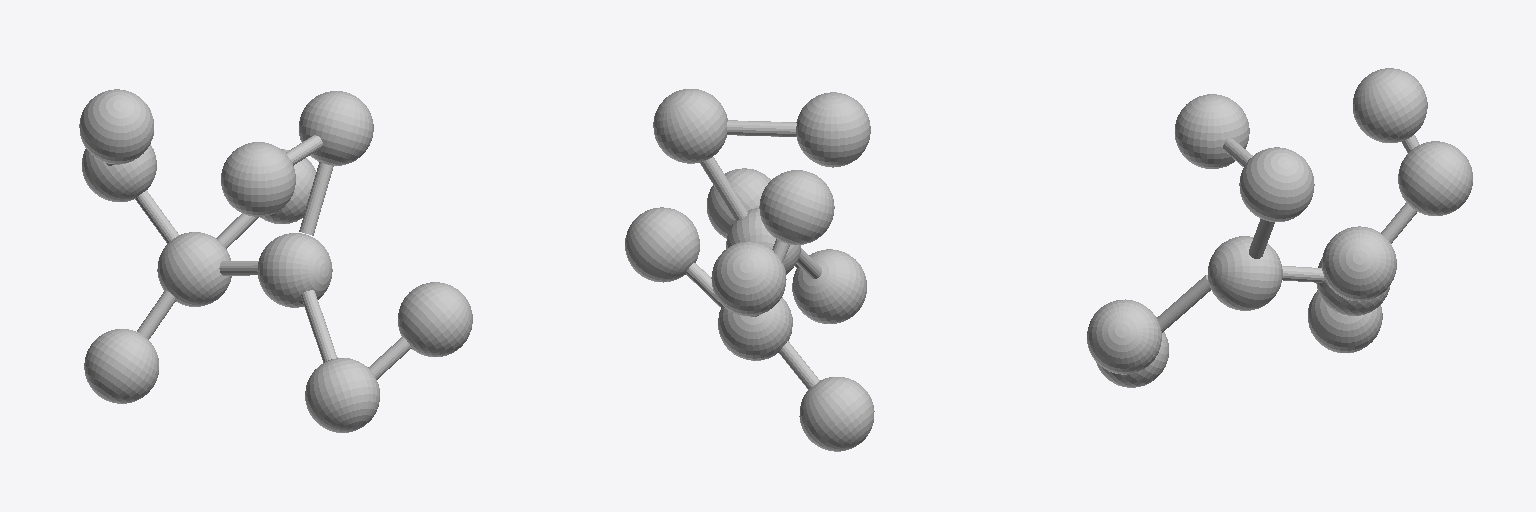
File: fenzi02_obj.obj
3 renders of one model, left to right at view 1: azimuth 30°, elevation 25°; view 2: azimuth 150°, elevation 25°; view 3: azimuth 270°, elevation 25°, orthographic.
Visible parts, largest first — view 1: Sphere94, Sphere96, Sphere97, Sphere95, Sphere88, Sphere91, Sphere90, Sphere93, Sphere89, Sphere92, Cylinder218, Cylinder213 (+6 smaller); view 2: Sphere95, Sphere94, Sphere93, Sphere97, Sphere92, Sphere89, Sphere96, Sphere90, Sphere88, Sphere91, Cylinder214, Cylinder218 (+2 smaller); view 3: Sphere89, Sphere95, Sphere88, Sphere93, Sphere92, Sphere91, Sphere94, Sphere97, Sphere96, Sphere90, Cylinder213, Cylinder212 (+2 smaller).
Boxes of the visible parts, box(x1,y1,x2,y2) form: Sphere94: box(221, 142, 295, 216); Sphere96: box(305, 358, 379, 432); Sphere97: box(84, 329, 158, 403); Sphere95: box(79, 89, 153, 164); Sphere88: box(398, 282, 472, 356); Sphere91: box(257, 233, 332, 307); Sphere90: box(157, 232, 231, 306); Sphere93: box(299, 91, 373, 165); Sphere89: box(82, 144, 156, 201); Sphere92: box(260, 149, 315, 223); Cylinder218: box(299, 162, 333, 235); Cylinder213: box(301, 290, 337, 362); Sphere95: box(759, 170, 834, 244); Sphere94: box(796, 92, 870, 167); Sphere93: box(653, 89, 727, 163); Sphere97: box(799, 377, 874, 451); Sphere92: box(625, 207, 699, 282); Sphere89: box(711, 241, 786, 315); Sphere96: box(792, 249, 866, 323); Sphere90: box(718, 297, 792, 360); Sphere88: box(707, 168, 770, 238); Sphere91: box(726, 208, 800, 274); Cylinder214: box(727, 120, 796, 136); Cylinder218: box(700, 157, 747, 220); Sphere89: box(1398, 141, 1472, 215); Sphere95: box(1353, 68, 1427, 142); Sphere88: box(1087, 299, 1161, 374); Sphere93: box(1239, 147, 1314, 221); Sphere92: box(1322, 226, 1396, 301); Sphere91: box(1208, 236, 1282, 310); Sphere94: box(1175, 94, 1249, 168); Sphere97: box(1308, 290, 1382, 352); Sphere96: box(1096, 332, 1168, 387); Sphere90: box(1316, 259, 1389, 315); Cylinder213: box(1157, 275, 1210, 332); Cylinder212: box(1282, 266, 1324, 282).
Size of the model in its own units: 32.39 by 33.13 by 40.39.